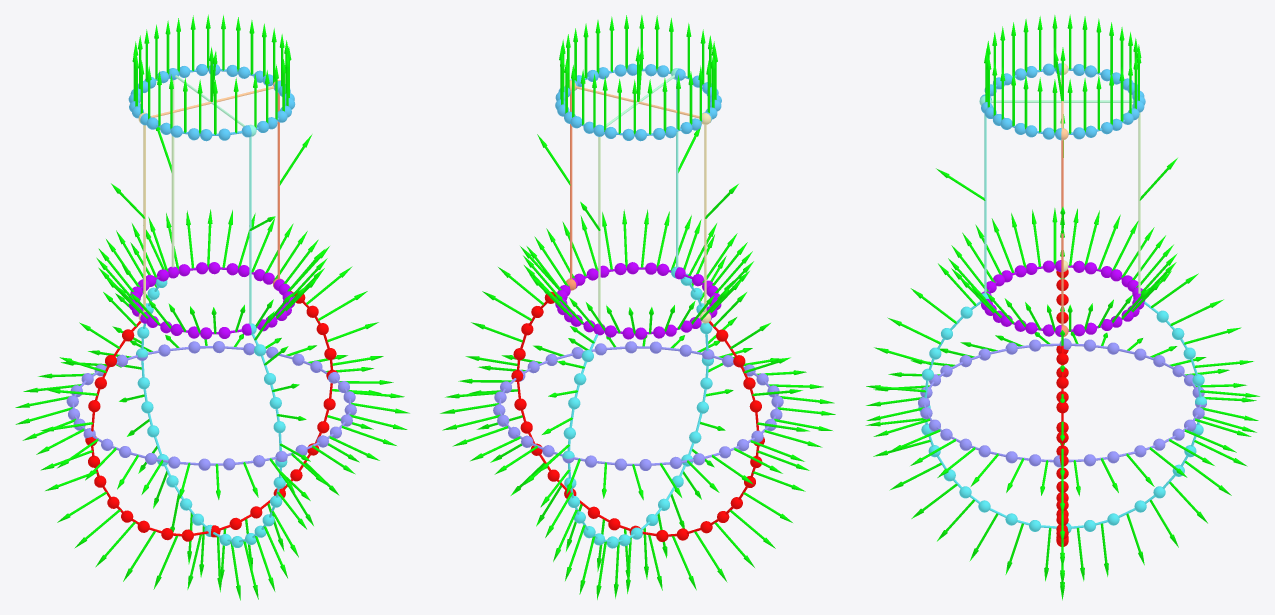
File: flowrep_spherecylinder.gltf
3 renders of one model, left to right at view 1: azimuth 30°, elevation 25°; view 2: azimuth 150°, elevation 25°; view 3: azimuth 270°, elevation 25°, orthographic.
Bounding box in the file's own units: 0.646 × 0.9663 × 0.6459.
